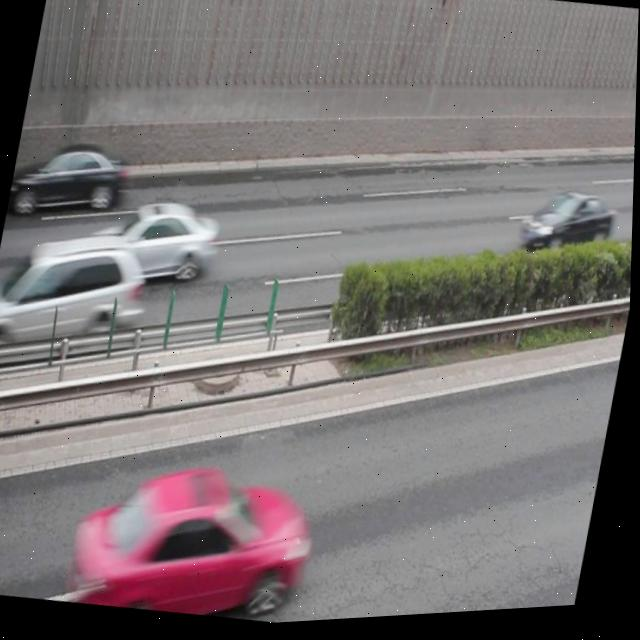car: (66, 443, 323, 636), (0, 217, 154, 368), (85, 189, 224, 295), (10, 132, 132, 230), (518, 186, 620, 269)
